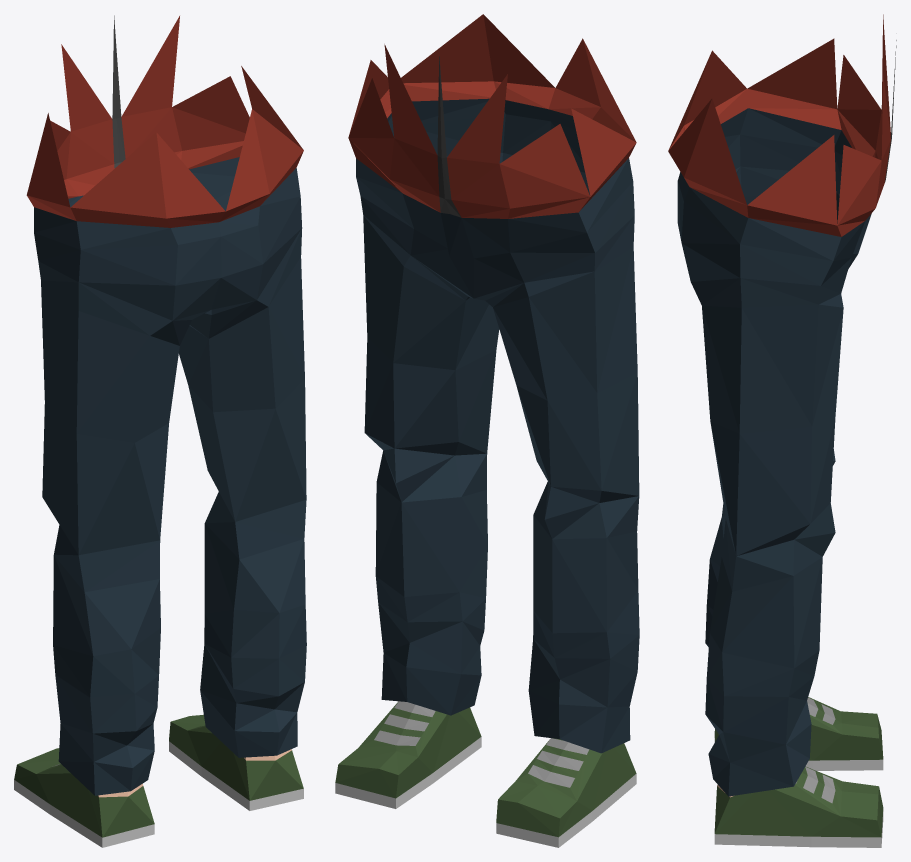
Rendered from Legs.obj.
3 renders of one model, left to right at view 1: azimuth 30°, elevation 25°; view 2: azimuth 150°, elevation 25°; view 3: azimuth 270°, elevation 25°, orthographic. The views are drawn at different scales.
Bounding box in the file's own units: 0.365 × 1.11 × 0.3025.
Materials: 1 (1 with a texture image).
